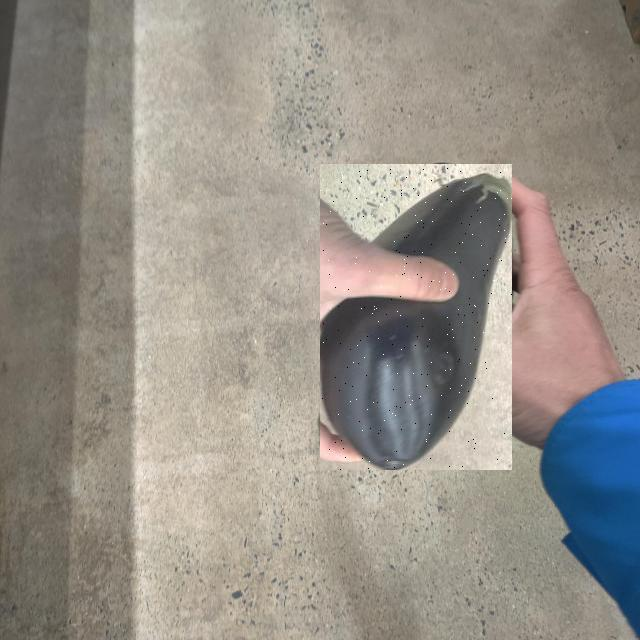Egg Plant: (321, 164, 513, 470)
